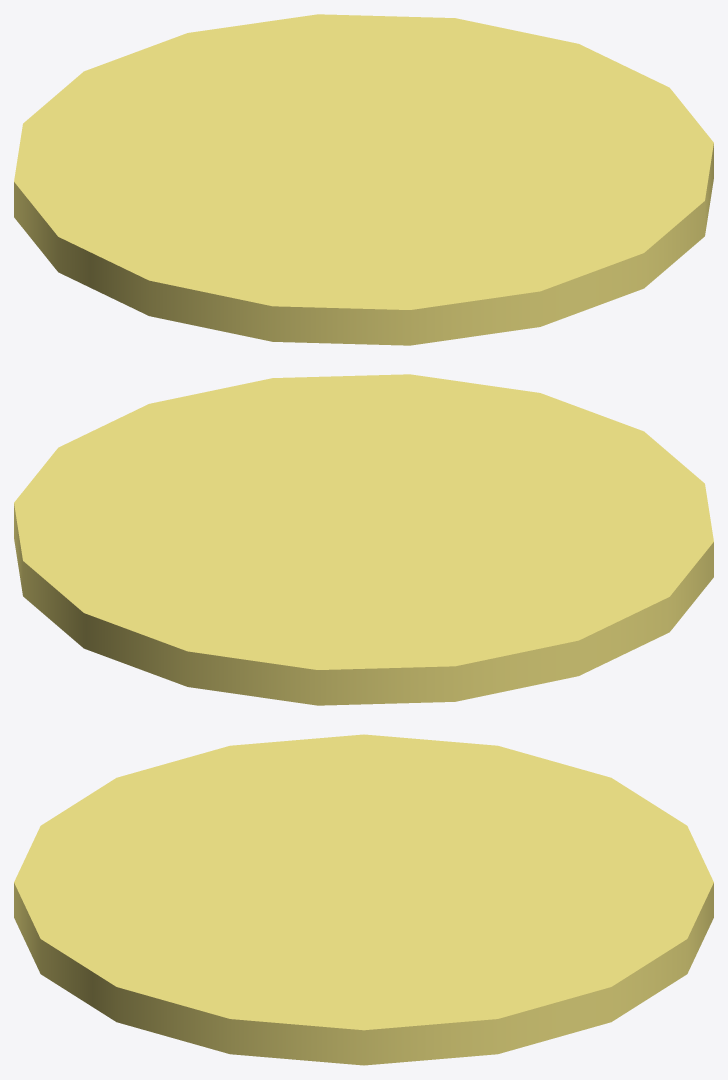
Rendered from banknote.glb.
The picture shows the model from 3 angles, top to bottom: view 1: azimuth 30°, elevation 25°; view 2: azimuth 150°, elevation 25°; view 3: azimuth 270°, elevation 25°; orthographic projection.
Size of what is drawn, in the model's own units: 0.36 by 0.02 by 0.36.
